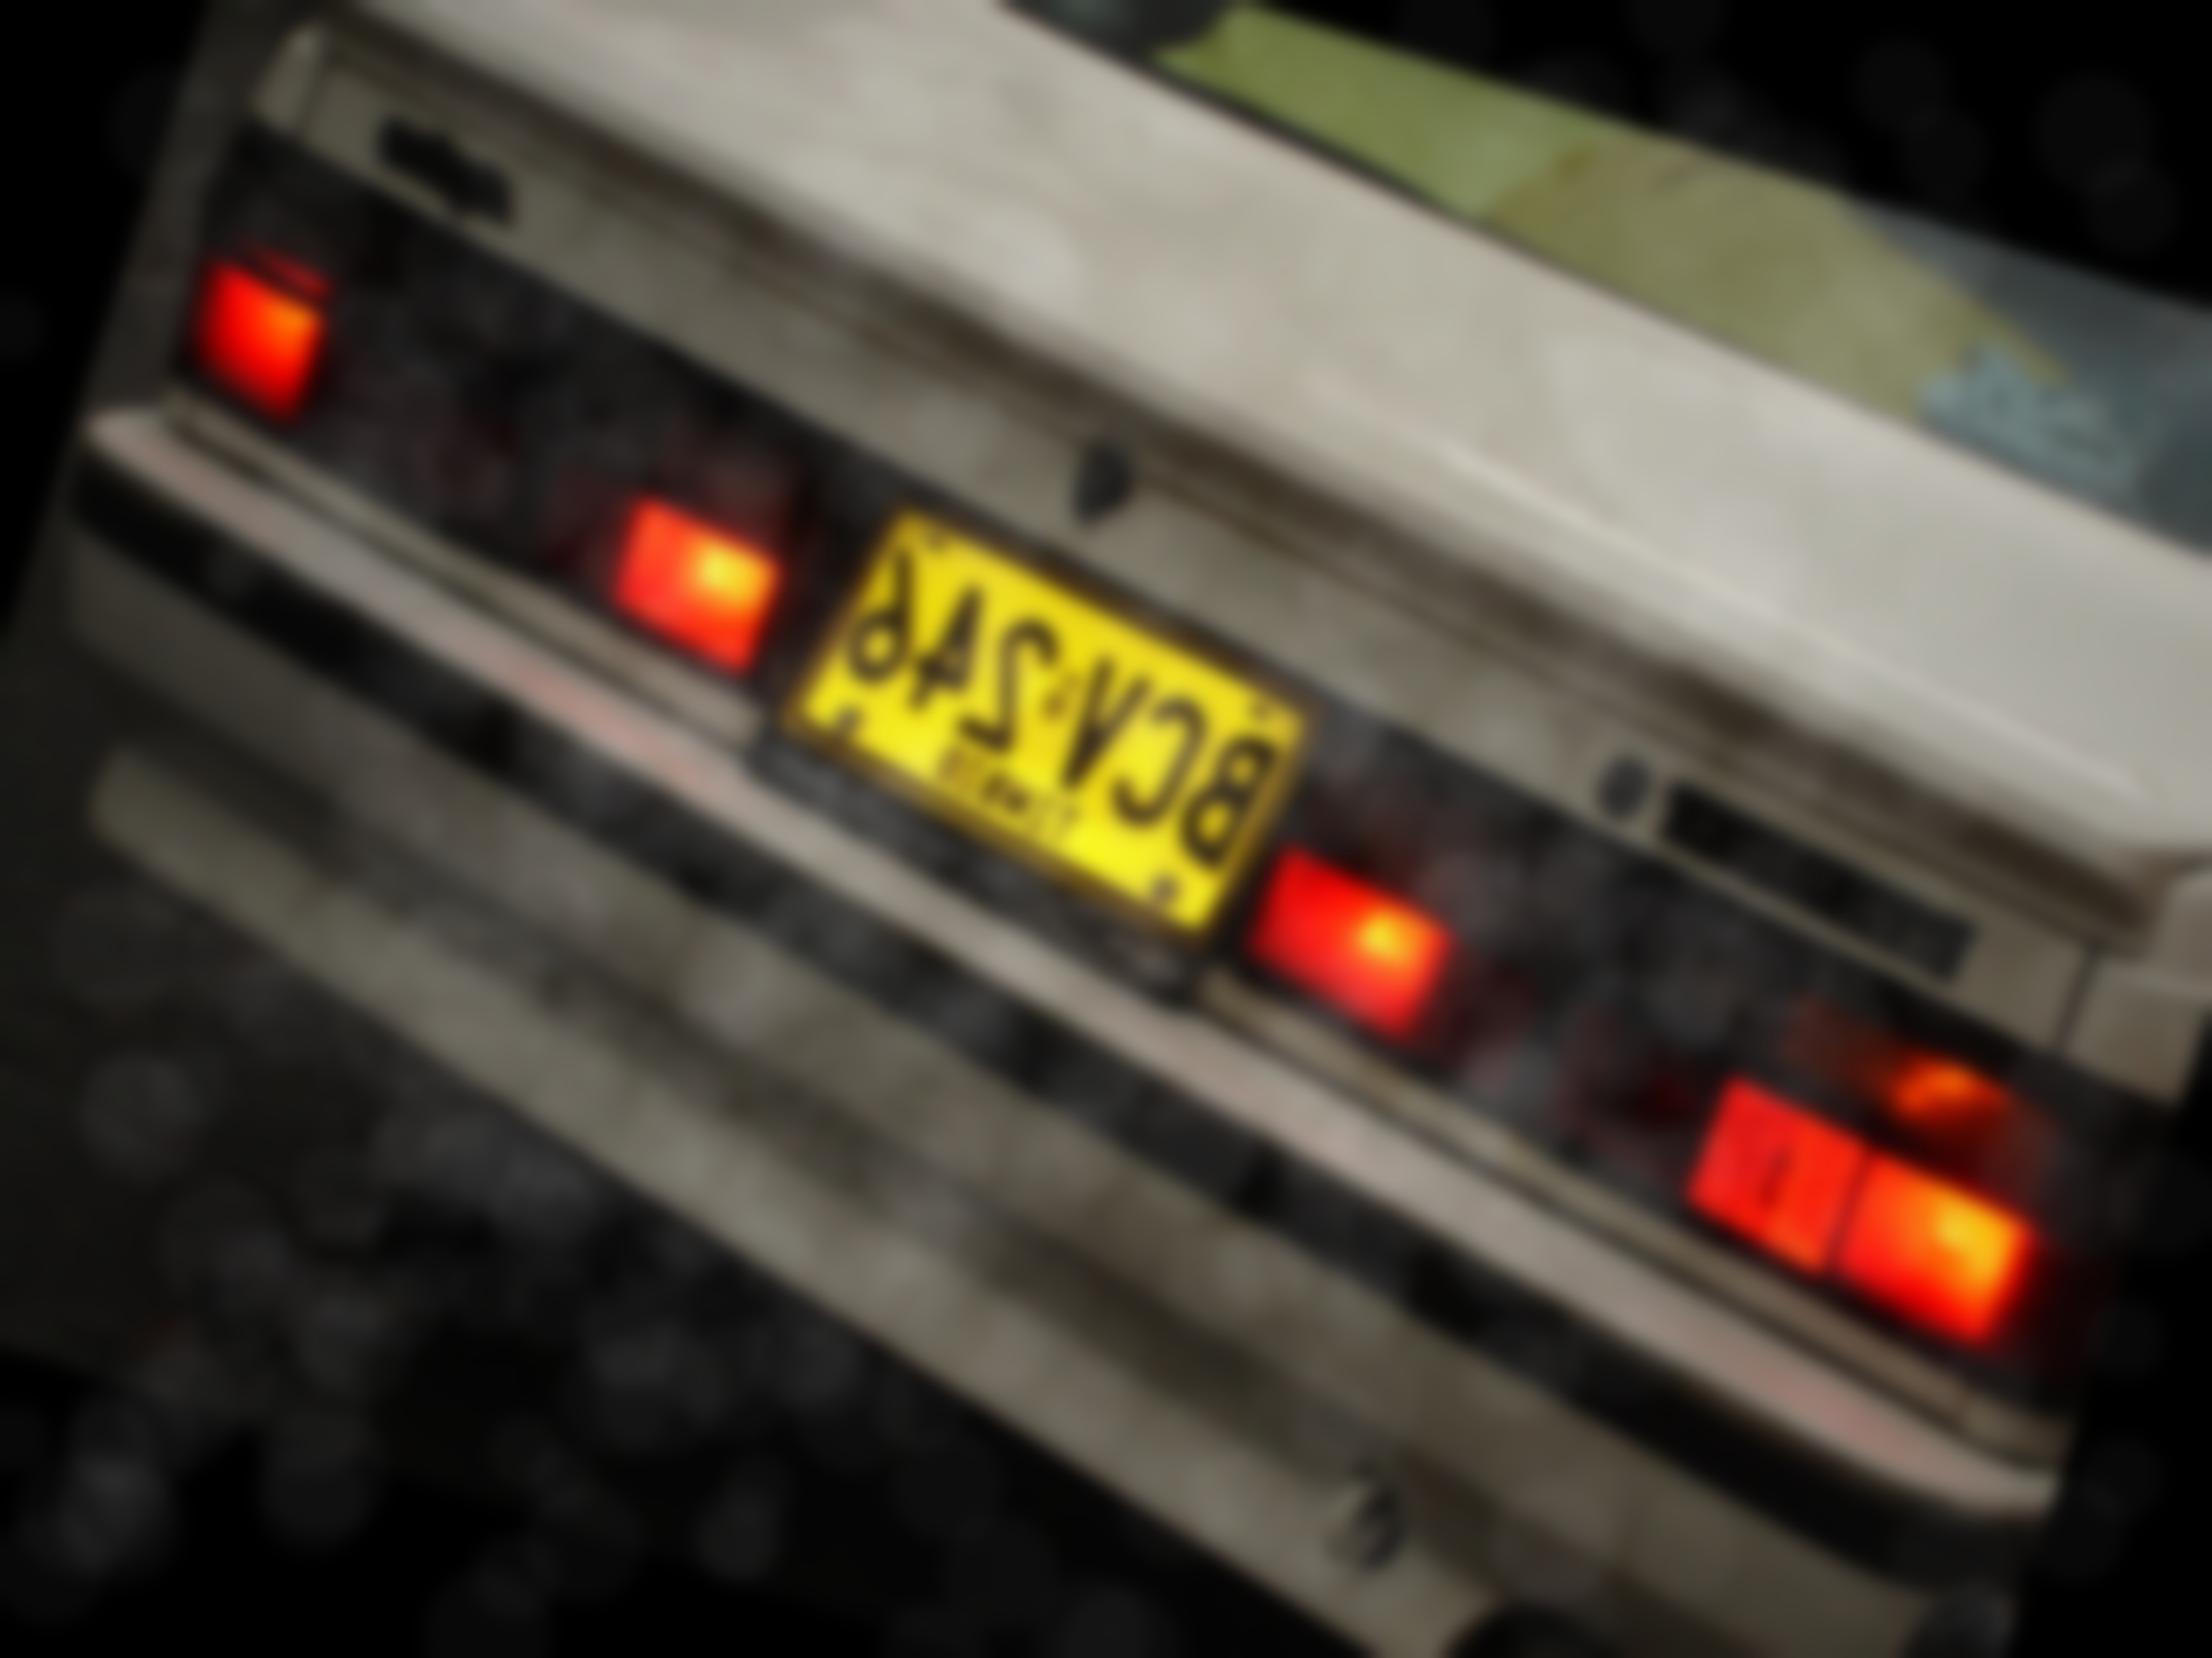placas: (747, 469, 1358, 979)
